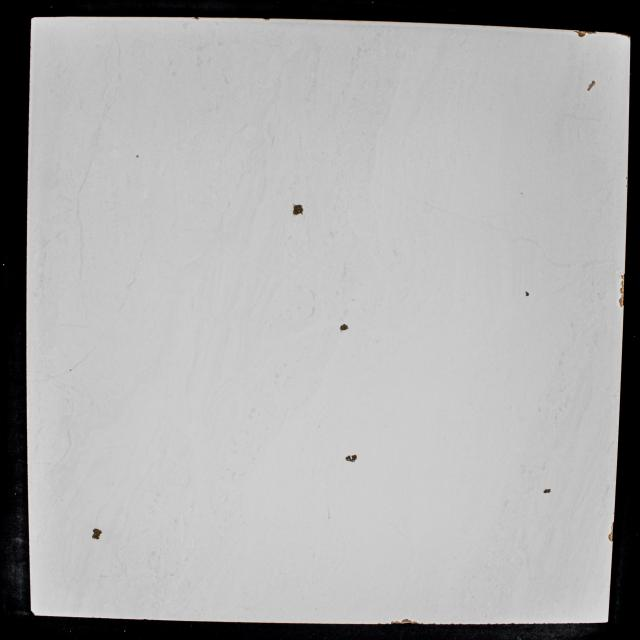edge-chipping: (619, 274, 625, 307), (574, 30, 597, 38), (391, 619, 424, 624), (608, 522, 614, 542), (614, 32, 630, 38), (30, 610, 36, 616), (262, 18, 270, 21), (192, 17, 199, 20), (510, 622, 516, 625), (428, 623, 436, 625), (378, 622, 381, 624), (31, 17, 34, 19), (451, 623, 454, 625), (459, 623, 462, 625)
hole: (292, 204, 304, 216), (92, 528, 102, 540), (345, 454, 357, 462), (587, 80, 595, 91), (340, 324, 348, 331), (543, 488, 551, 494), (526, 292, 530, 296), (136, 155, 139, 158), (626, 176, 628, 180), (626, 185, 627, 187)
